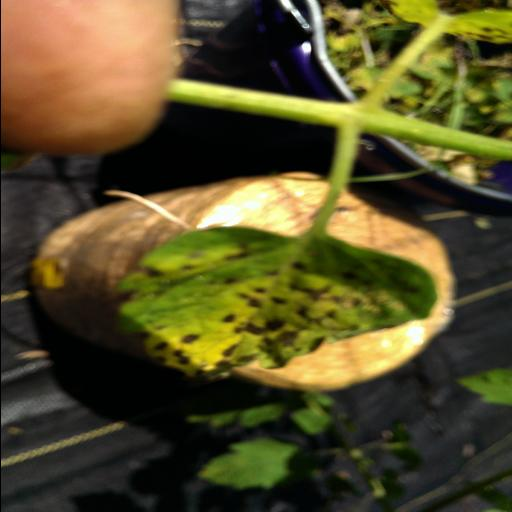Septoria: (108, 222, 442, 387)
